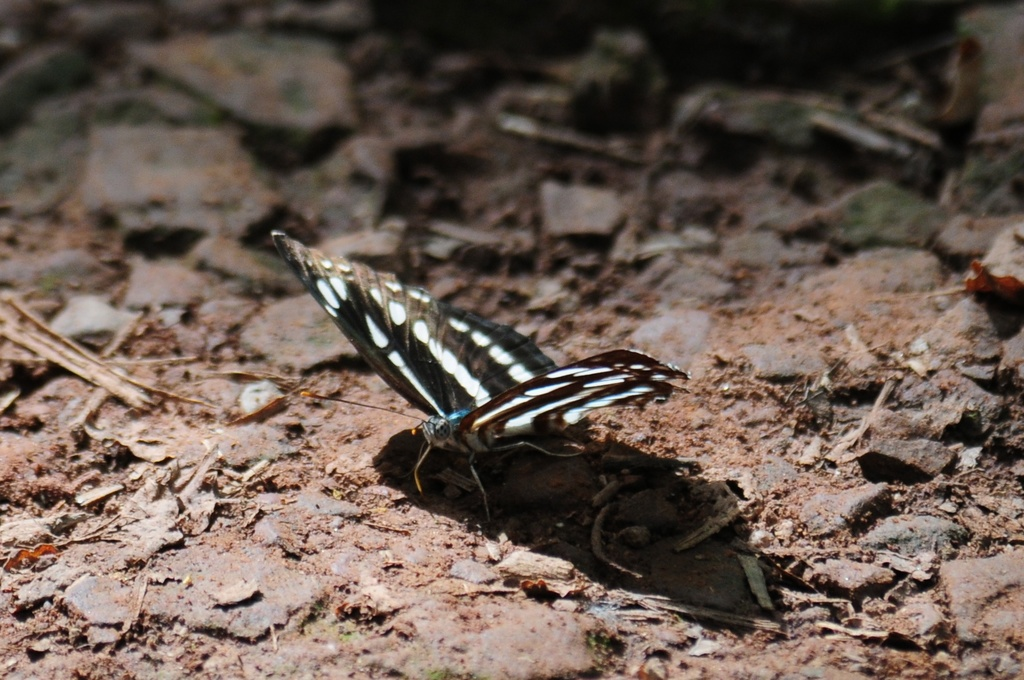Butterfly: (266, 219, 690, 512)
